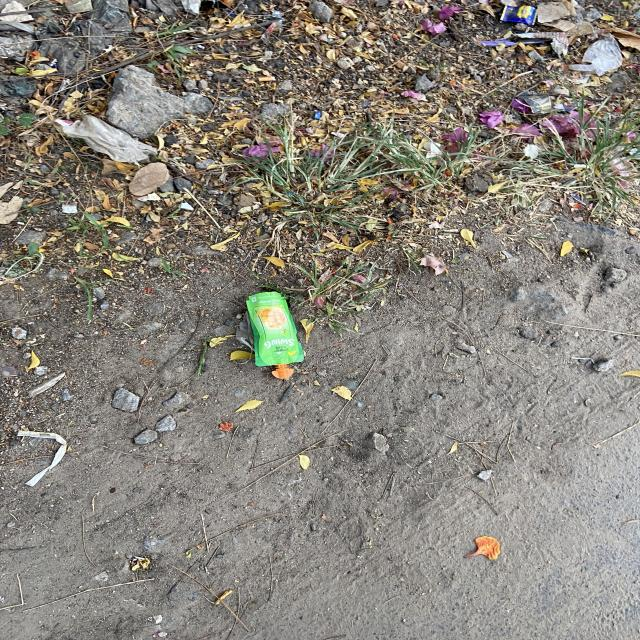plastic: (570, 33, 624, 75)
wrapper: (246, 292, 304, 379), (61, 114, 156, 163), (501, 4, 537, 24)
